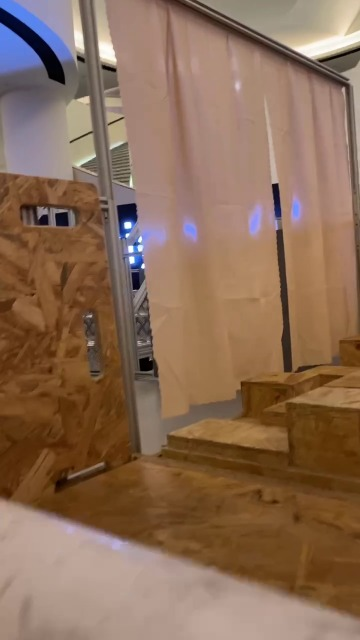curtain: (108, 13, 360, 410)
